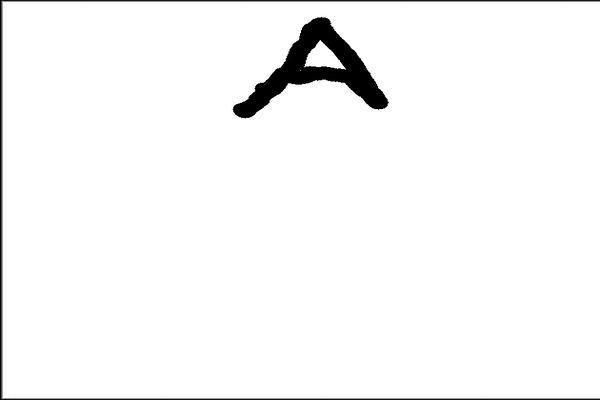A: (223, 15, 397, 118)
